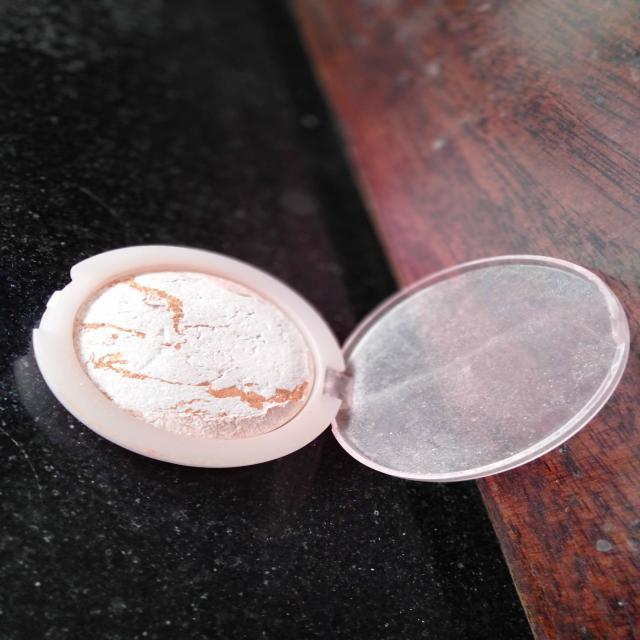powder: (48, 226, 336, 473)
